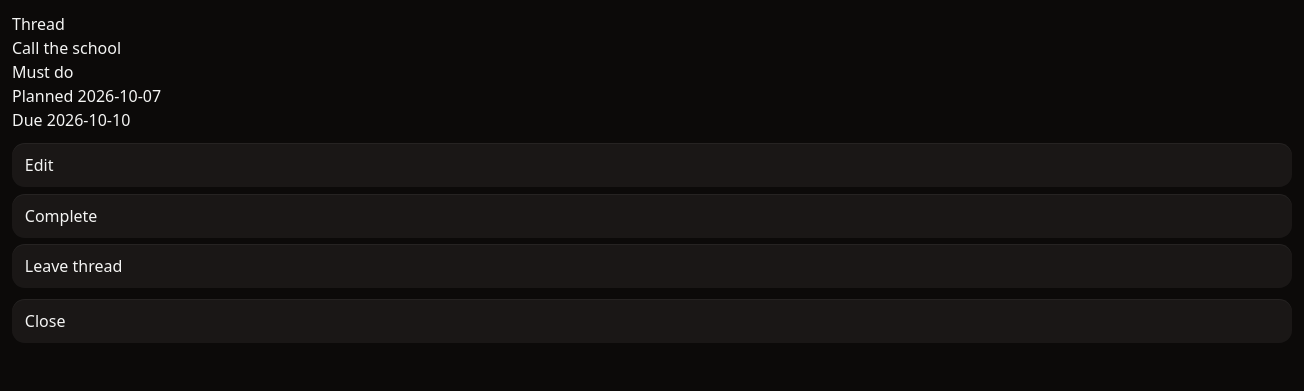
Scenario: task completion correction surface › does not show Still open when Complete fails
This screenshot has width=1304, height=391.
Click the button "Complete". click: click(61, 216)
box: [12,194,1292,238]
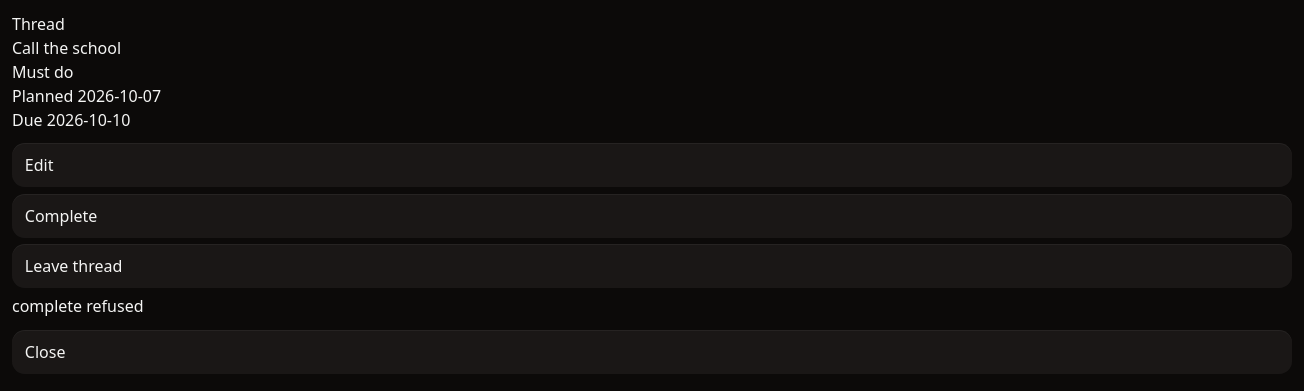
Now the message "complete refused" is shown, box [12,295,144,317]
